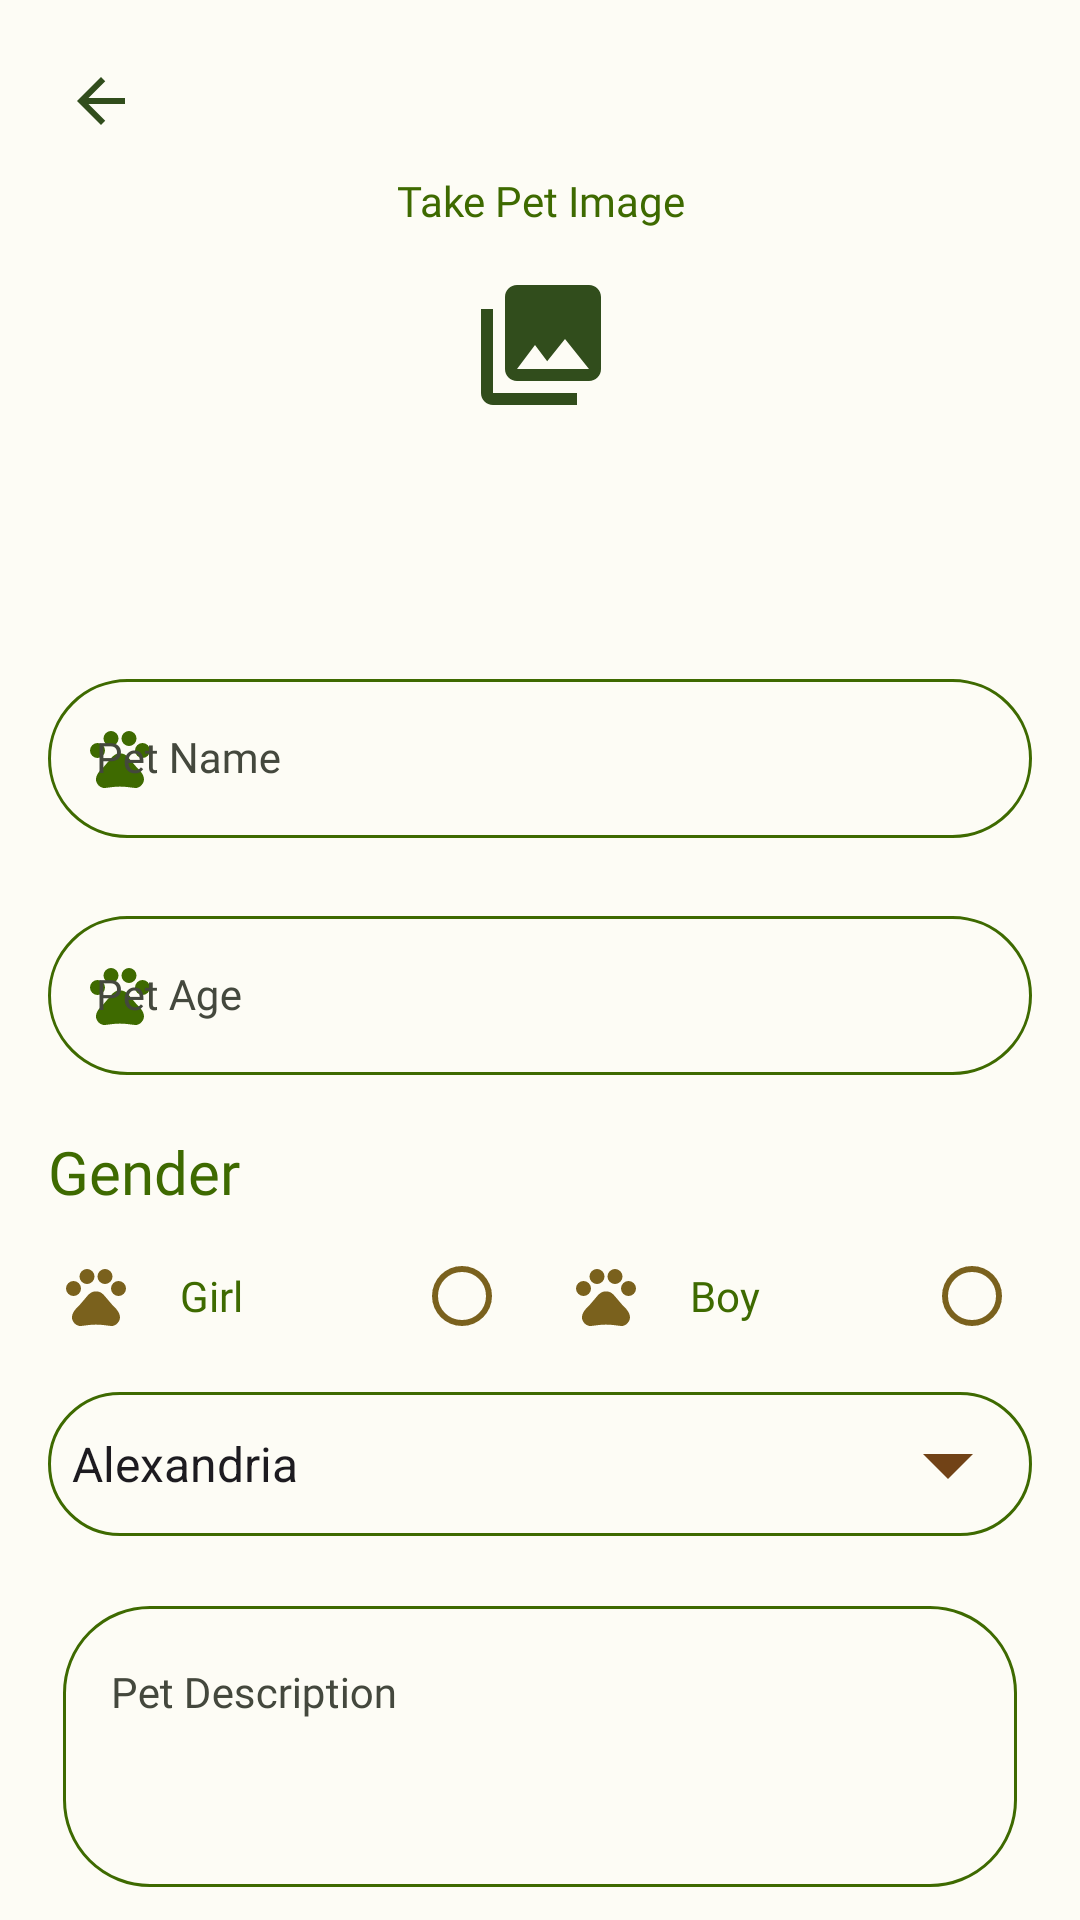

Point at icon controls on the screen. Image size 1080px x 1920px, points as [x,y].
back arrow: [101,101]
this image for taking pet image from gallery: [541,345]
